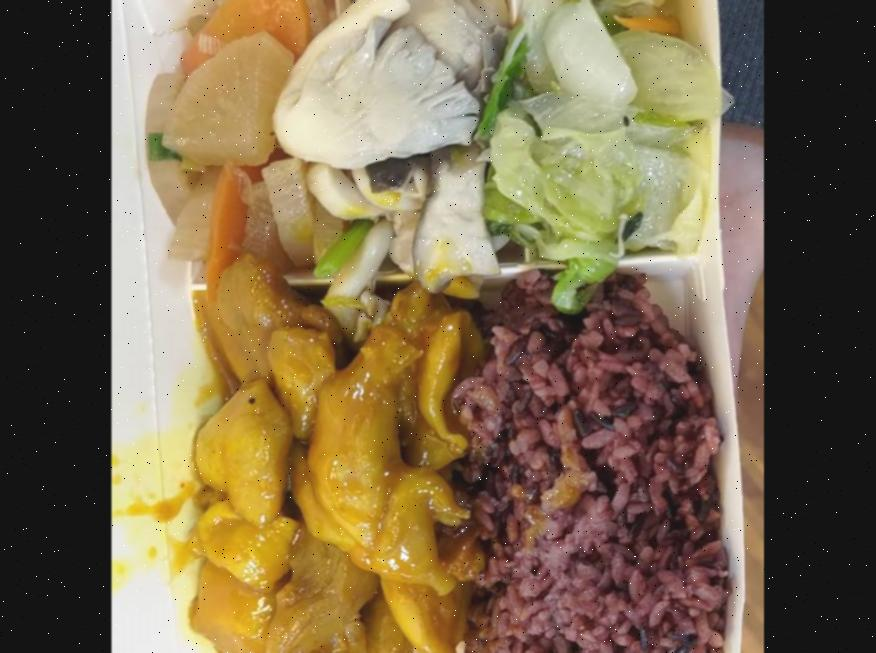box: (159, 0, 739, 653)
curry chicken: (192, 260, 464, 653)
purple rice: (457, 280, 731, 653)
side dish: (280, 0, 504, 287), (483, 0, 706, 273), (143, 0, 324, 277)
